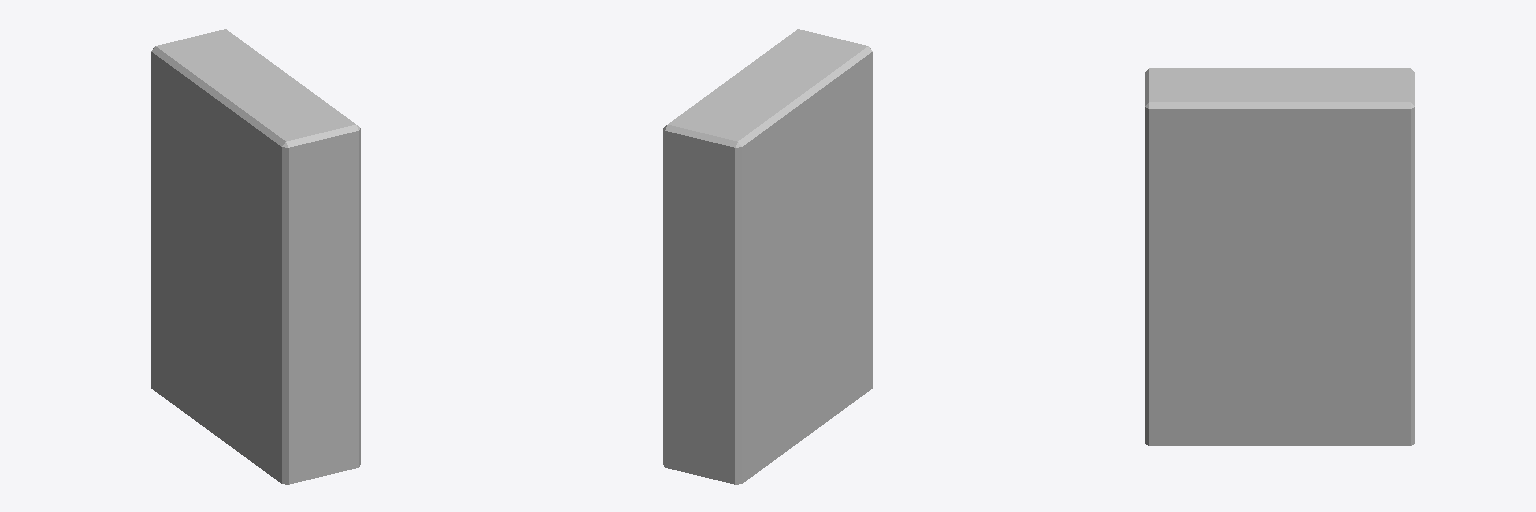
File: Cereal2.obj
The picture shows the model from 3 angles: view 1: azimuth 30°, elevation 25°; view 2: azimuth 150°, elevation 25°; view 3: azimuth 270°, elevation 25°; orthographic projection.
Visible parts, largest first — view 1: hypercasual_prop005; view 2: hypercasual_prop005; view 3: hypercasual_prop005.
Boxes of the visible parts, x1=… form: hypercasual_prop005: x1=151, y1=29, x2=360, y2=484; hypercasual_prop005: x1=663, y1=29, x2=872, y2=484; hypercasual_prop005: x1=1145, y1=68, x2=1414, y2=445.
Bounding box in the file's own units: 0.4833 × 2 × 1.44.